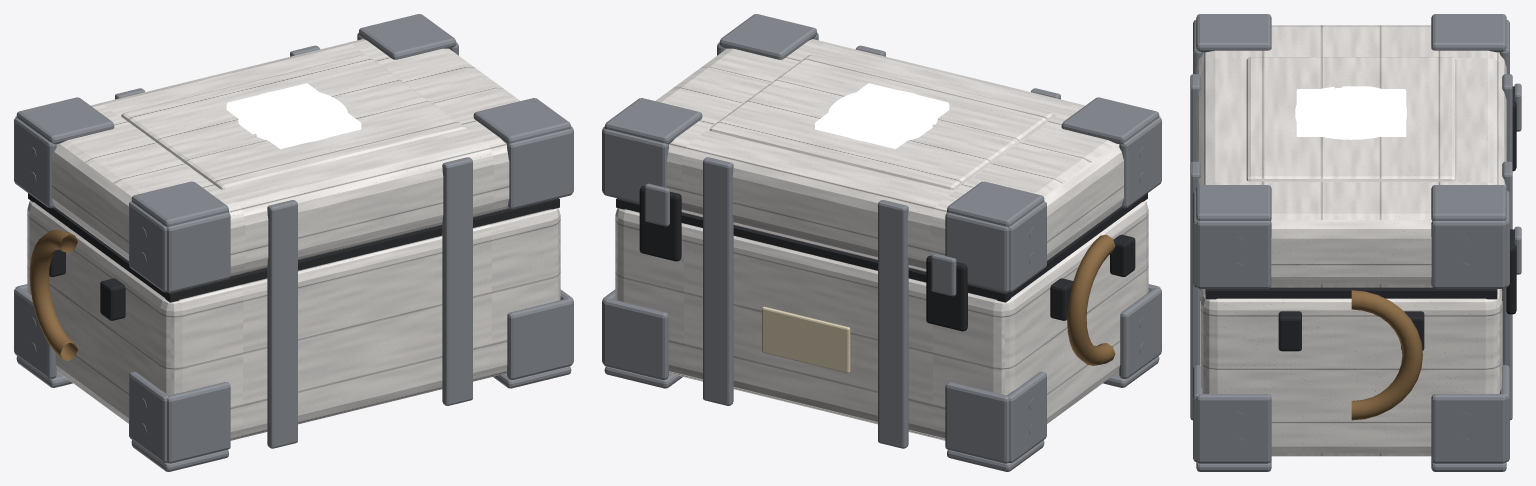
Rendered from supply.glb.
The picture shows the model from 3 angles, left to right: view 1: azimuth 30°, elevation 25°; view 2: azimuth 150°, elevation 25°; view 3: azimuth 270°, elevation 25°; orthographic projection. The views are drawn at different scales.
Parts seen in each view (by area): view 1: SupplyBody, SupplyTrim, SupplyLetterG, SupplyLetterH, SupplyLetterD, SupplyLetterR, SupplyLetterT; view 2: SupplyBody, SupplyTrim, SupplyLetterG, SupplyLetterD, SupplyLetterH, SupplyLetterR, SupplyLetterT; view 3: SupplyBody, SupplyTrim, SupplyLetterD, SupplyLetterG, SupplyLetterH, SupplyLetterR, SupplyLetterT.
Part boxes in pixels (x1,y1,x2,y2): SupplyBody: (27, 39, 560, 440); SupplyTrim: (14, 14, 573, 471); SupplyLetterG: (238, 89, 347, 142); SupplyLetterH: (226, 83, 361, 149); SupplyLetterD: (245, 83, 360, 136); SupplyLetterR: (232, 86, 350, 136); SupplyLetterT: (257, 90, 356, 146); SupplyBody: (615, 39, 1148, 440); SupplyTrim: (602, 14, 1161, 471); SupplyLetterG: (828, 89, 937, 141); SupplyLetterD: (815, 83, 931, 136); SupplyLetterH: (815, 83, 949, 148); SupplyLetterR: (819, 92, 930, 148); SupplyLetterT: (845, 84, 941, 141); SupplyBody: (1196, 25, 1506, 456); SupplyTrim: (1190, 14, 1521, 471); SupplyLetterD: (1297, 87, 1406, 127); SupplyLetterG: (1295, 86, 1406, 139); SupplyLetterH: (1296, 89, 1406, 136); SupplyLetterR: (1296, 89, 1406, 127); SupplyLetterT: (1296, 91, 1406, 125).
Bounding box in the file's own units: 1.17 × 0.619 × 0.705.
Materials: 6 (1 with a texture image).
